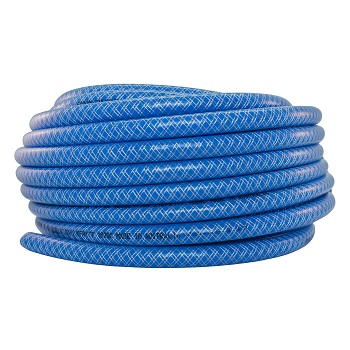Nonrec_Tangler: (18, 75, 324, 271)
